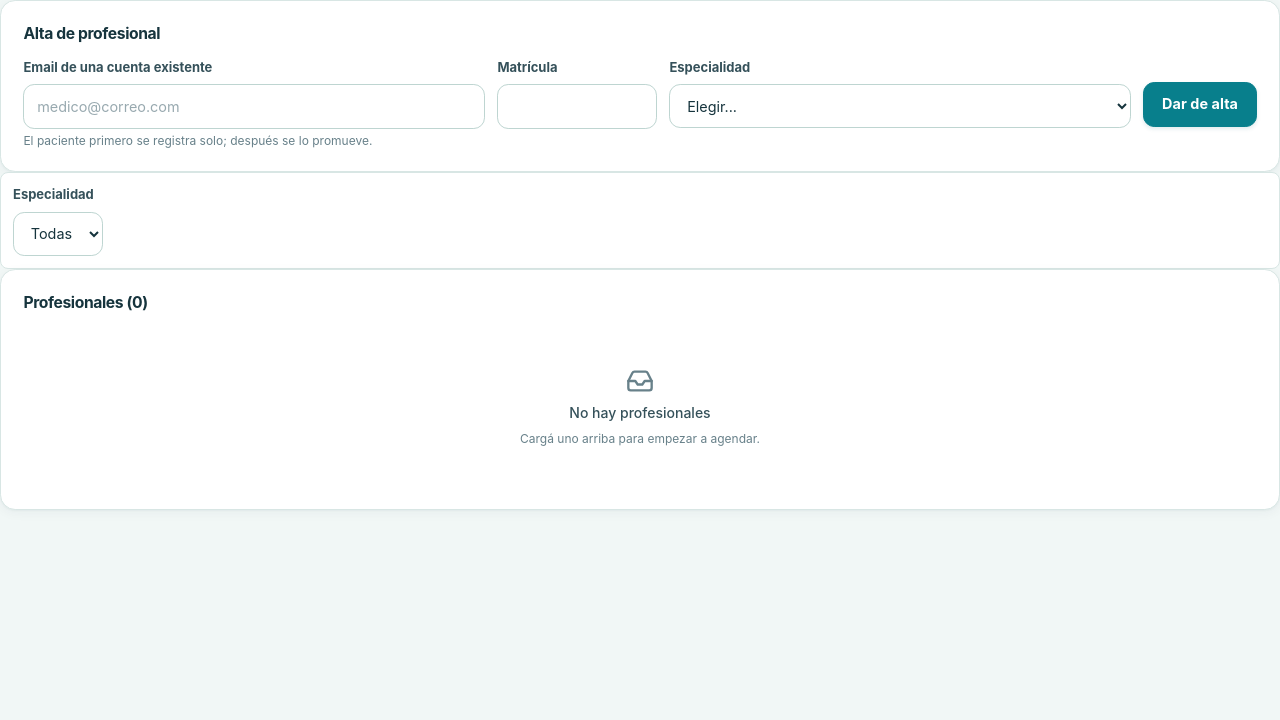
Test: Admin — alta de profesional › valida email, matrícula y especialidad antes de enviar
Type "no-es-email" into the field labelled "Email de una cuenta existente".
click(254, 107); type("no-es-email")  # box x1=23 y1=84 x2=485 y2=129
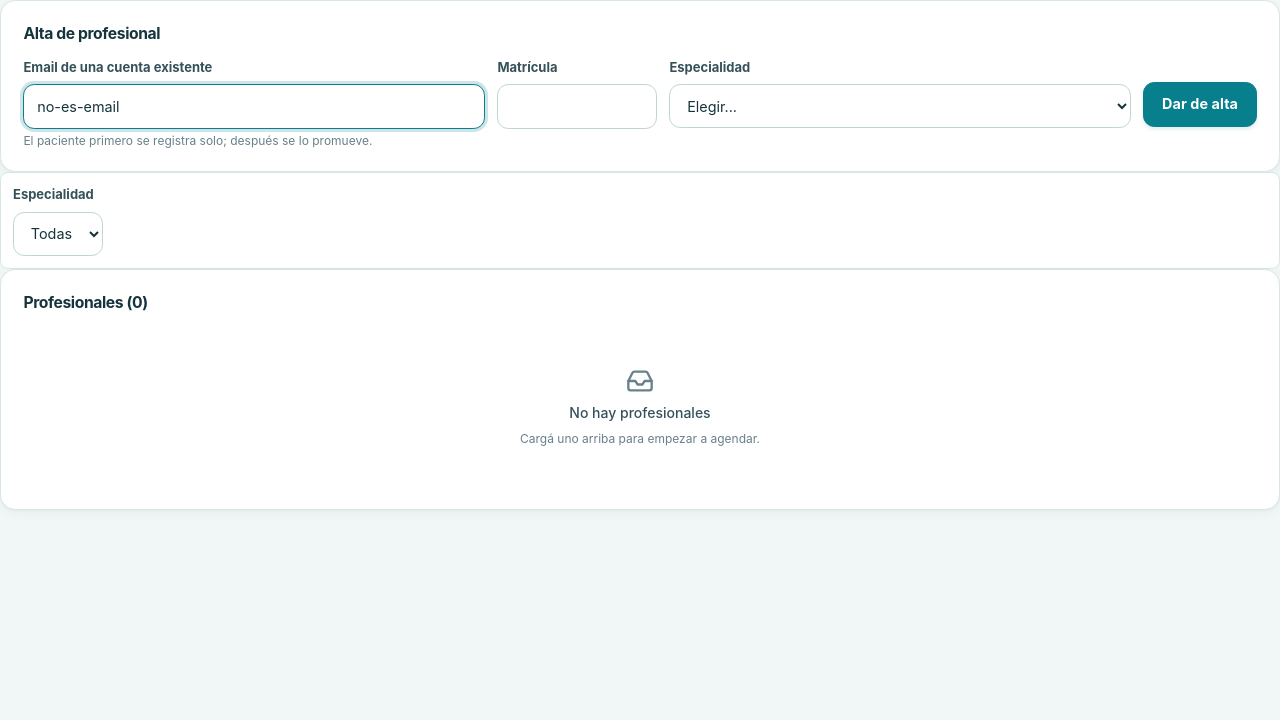
Type "a#" into the field labelled "Matrícula".
click(577, 107); type("a#")  # box x1=497 y1=84 x2=657 y2=129
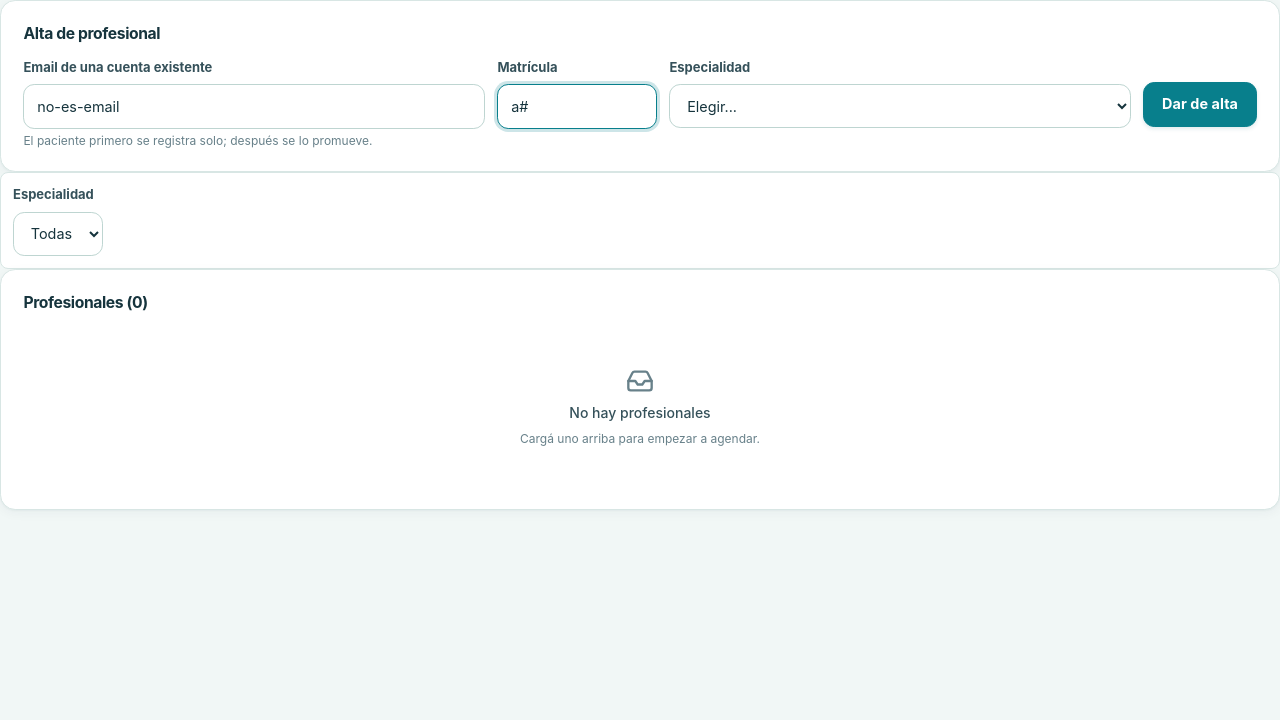
Click the button "Dar de alta".
click(1200, 104)  # box x1=1143 y1=82 x2=1257 y2=127
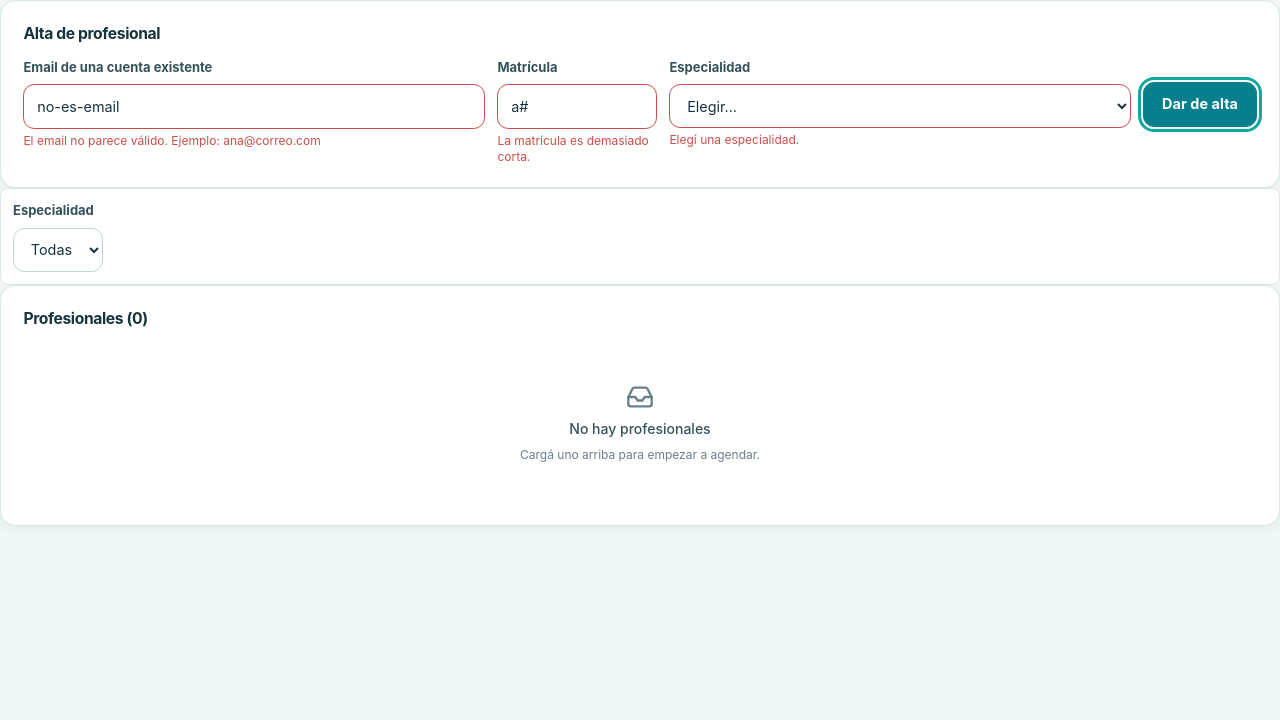
Expected: the text "El email no parece válido. Ejemplo: ana@correo.com" is shown, x1=23 y1=133 x2=321 y2=148
Expected: the text "La matrícula es demasiado corta." is shown, x1=497 y1=133 x2=657 y2=165
Expected: the text "Elegí una especialidad." is shown, x1=669 y1=132 x2=799 y2=148
